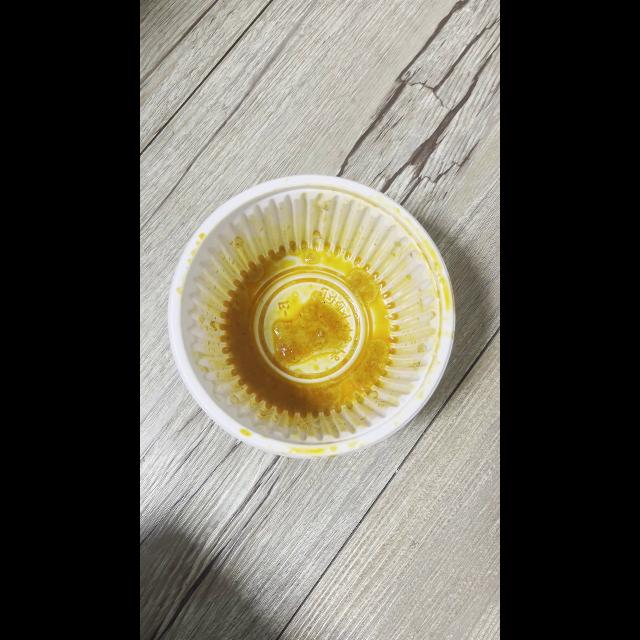dirty: (172, 206, 454, 452)
